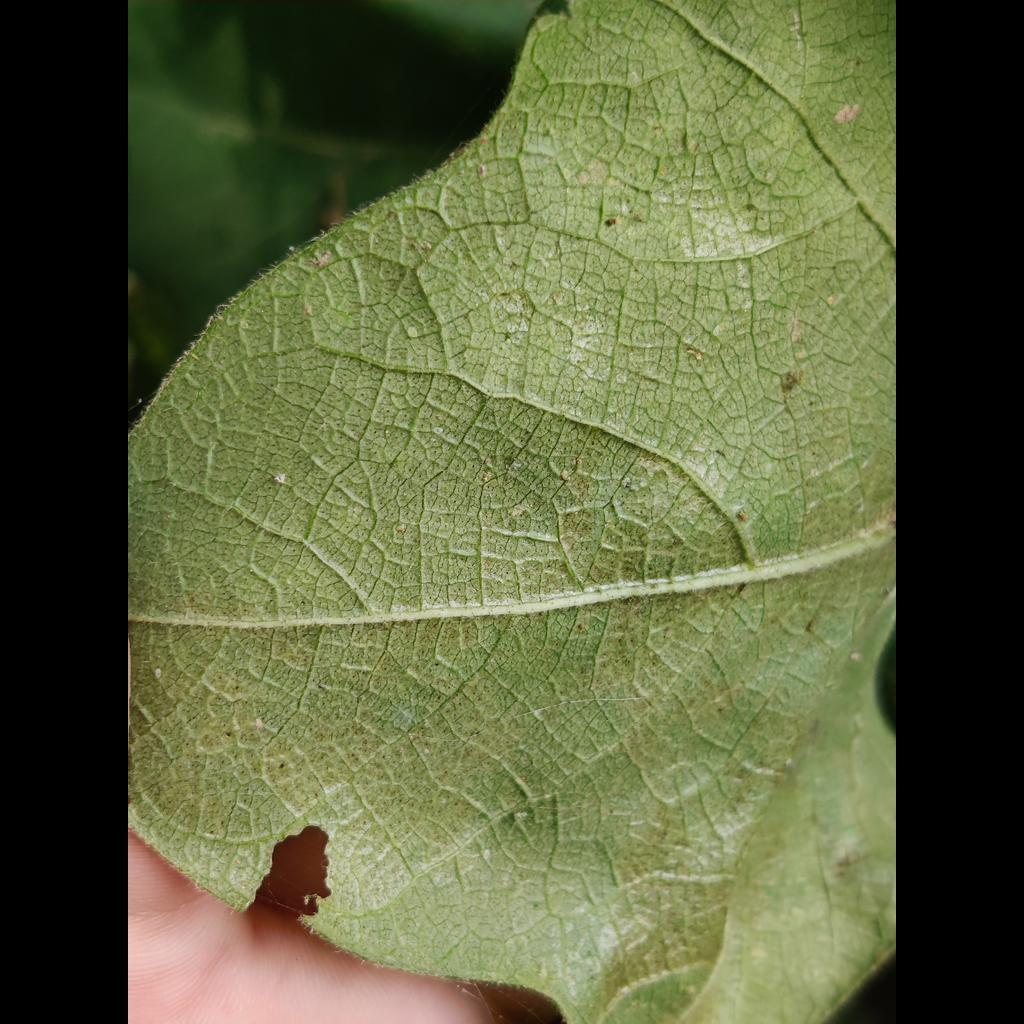nymph: (407, 327, 418, 338), (274, 473, 285, 483), (154, 668, 162, 679), (483, 848, 490, 860)
